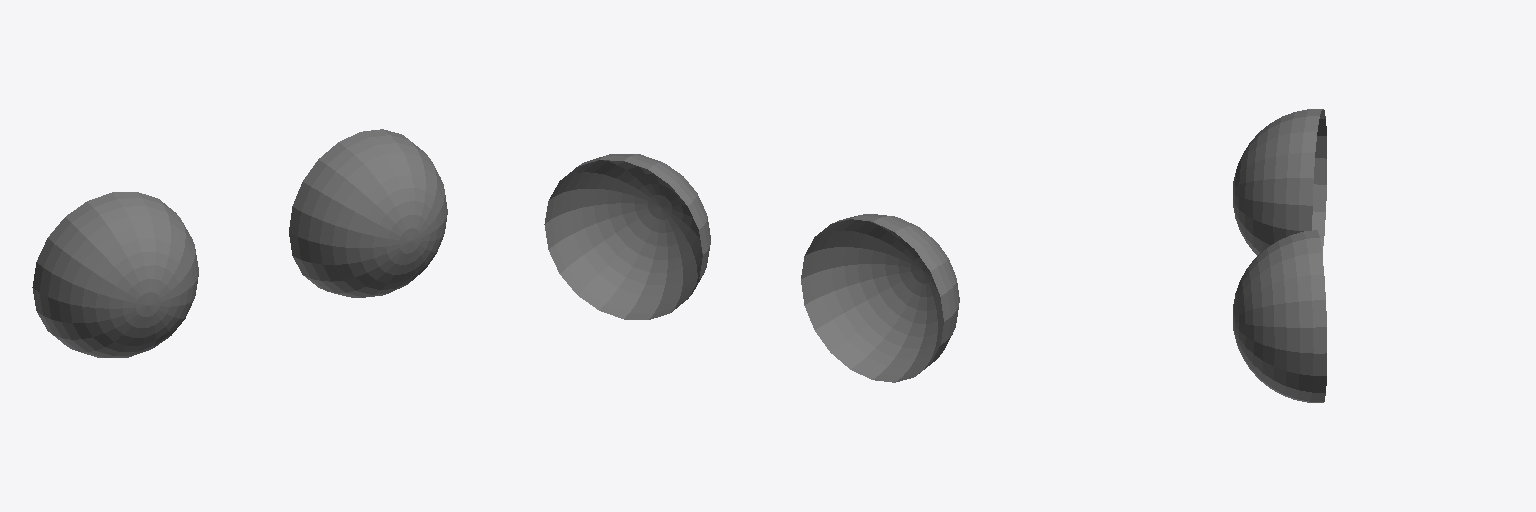
The model's file is african_head_eye_inner.obj.
3 renders of one model, left to right at view 1: azimuth 30°, elevation 25°; view 2: azimuth 150°, elevation 25°; view 3: azimuth 270°, elevation 25°, orthographic.
Visible parts, largest first — view 1: eyeInner; view 2: eyeInner; view 3: eyeInner.
Boxes of the visible parts, x1=… form: eyeInner: x1=32, y1=129, x2=447, y2=357; eyeInner: x1=544, y1=154, x2=959, y2=382; eyeInner: x1=1233, y1=109, x2=1326, y2=402.
Size of the model in its own units: 0.6013 by 0.2277 by 0.1237.